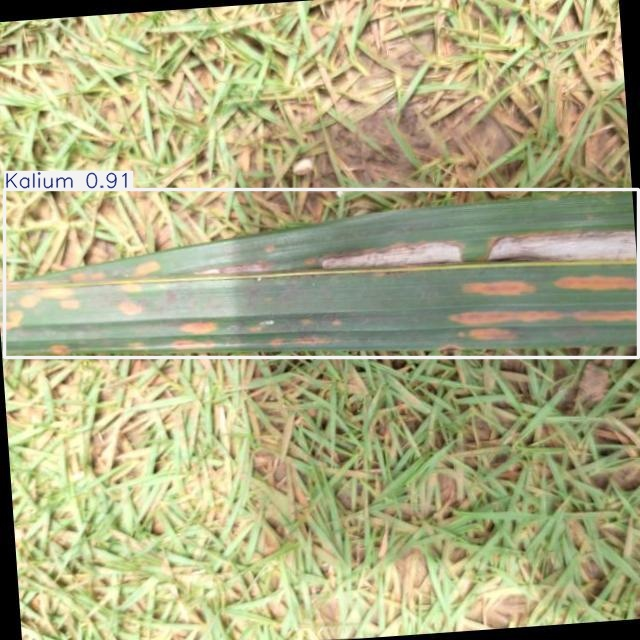Kalium: (4, 189, 639, 358)
